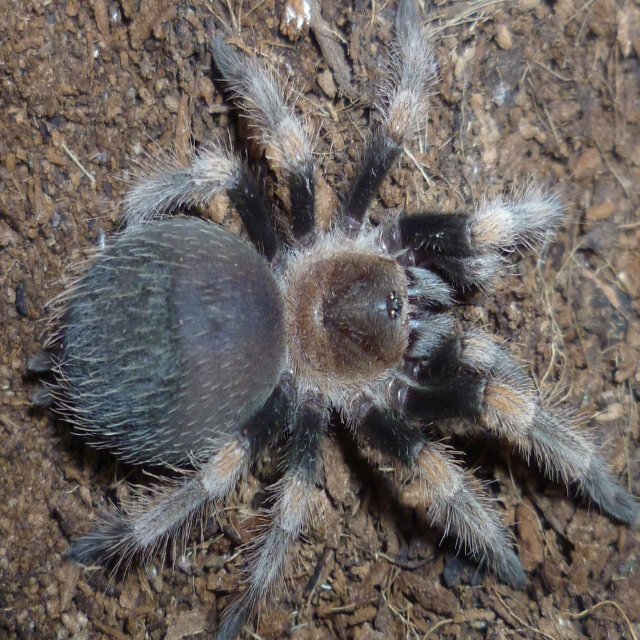Spider: (23, 0, 640, 640)
